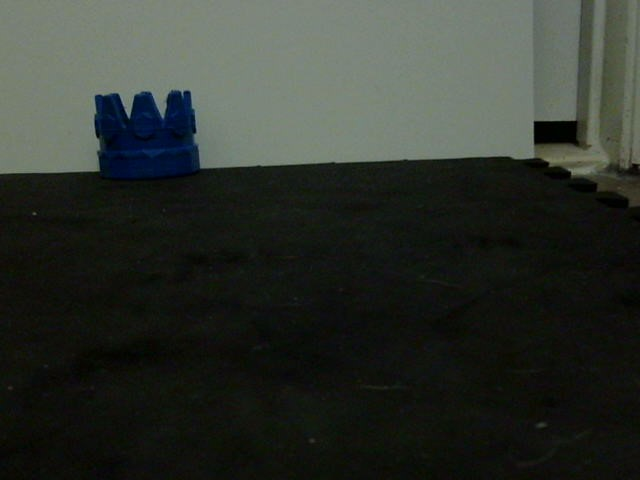crown: (94, 90, 202, 177)
